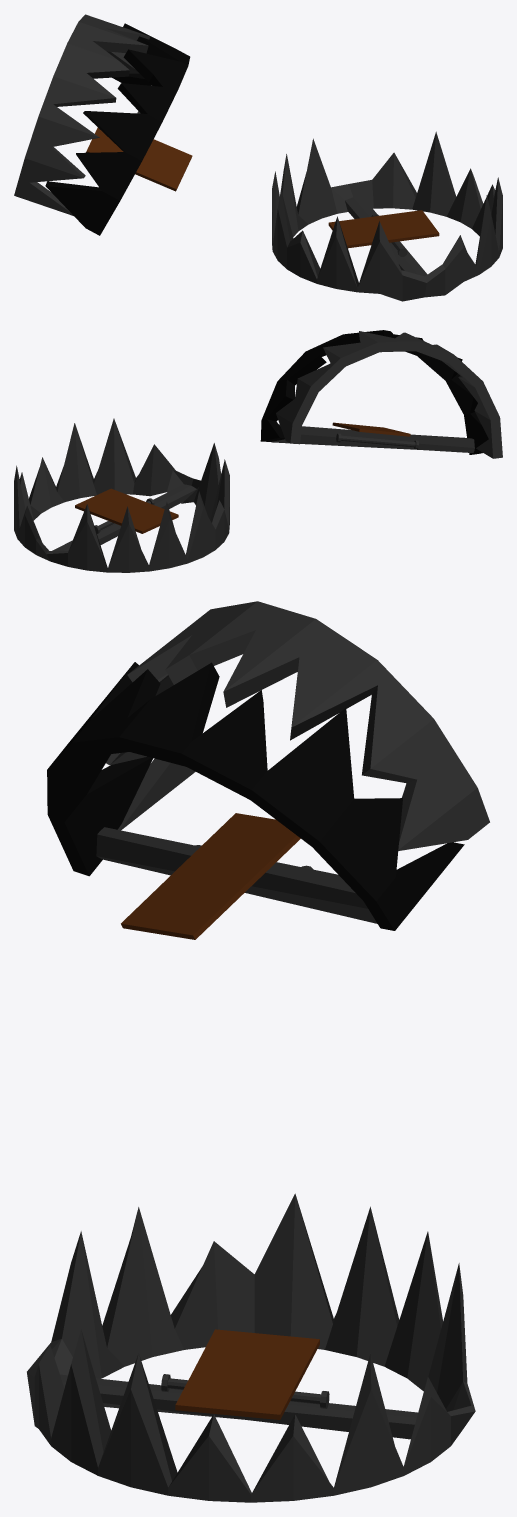
3 views of the same model, one above another, from view 1: azimuth 30°, elevation 25°; view 2: azimuth 150°, elevation 25°; view 3: azimuth 270°, elevation 25° (orthographic). The views are drawn at different scales.
Visible parts, largest first — view 1: BearTrap_Closed_1, BearTrap_Open_0; view 2: BearTrap_Open_0, BearTrap_Closed_1; view 3: BearTrap_Closed_1, BearTrap_Open_0.
Boxes of the visible parts, box(x1,y1,x2,y2) form: BearTrap_Closed_1: box(14, 14, 192, 235); BearTrap_Open_0: box(272, 131, 502, 301); BearTrap_Open_0: box(14, 418, 229, 572); BearTrap_Closed_1: box(260, 330, 502, 458); BearTrap_Closed_1: box(47, 601, 489, 939); BearTrap_Open_0: box(27, 1193, 475, 1502).
Bounding box in the file's own units: 2.03 × 1.14 × 0.8877.
